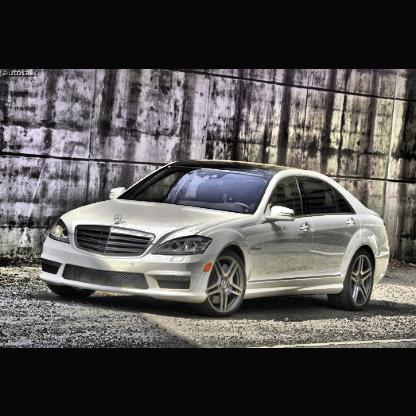Mercedes-Benz S-Class Sedan 2012: (37, 156, 391, 321)
